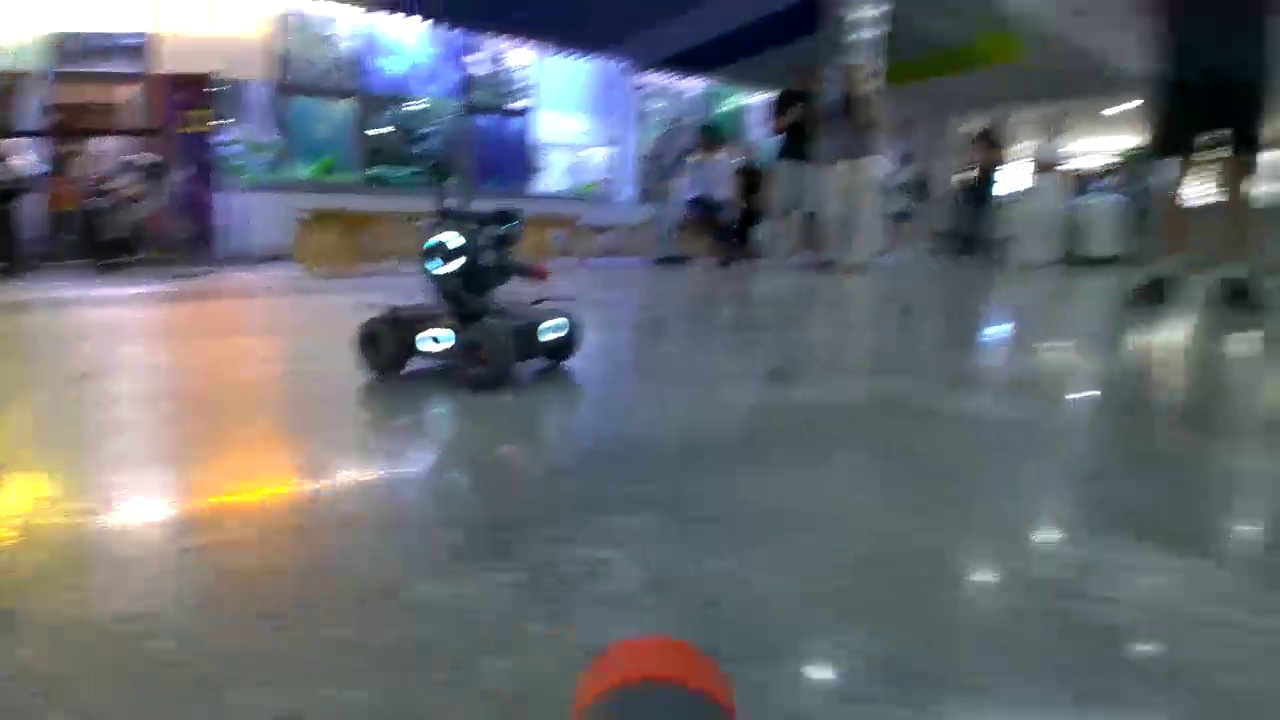robot: (357, 204, 584, 382)
